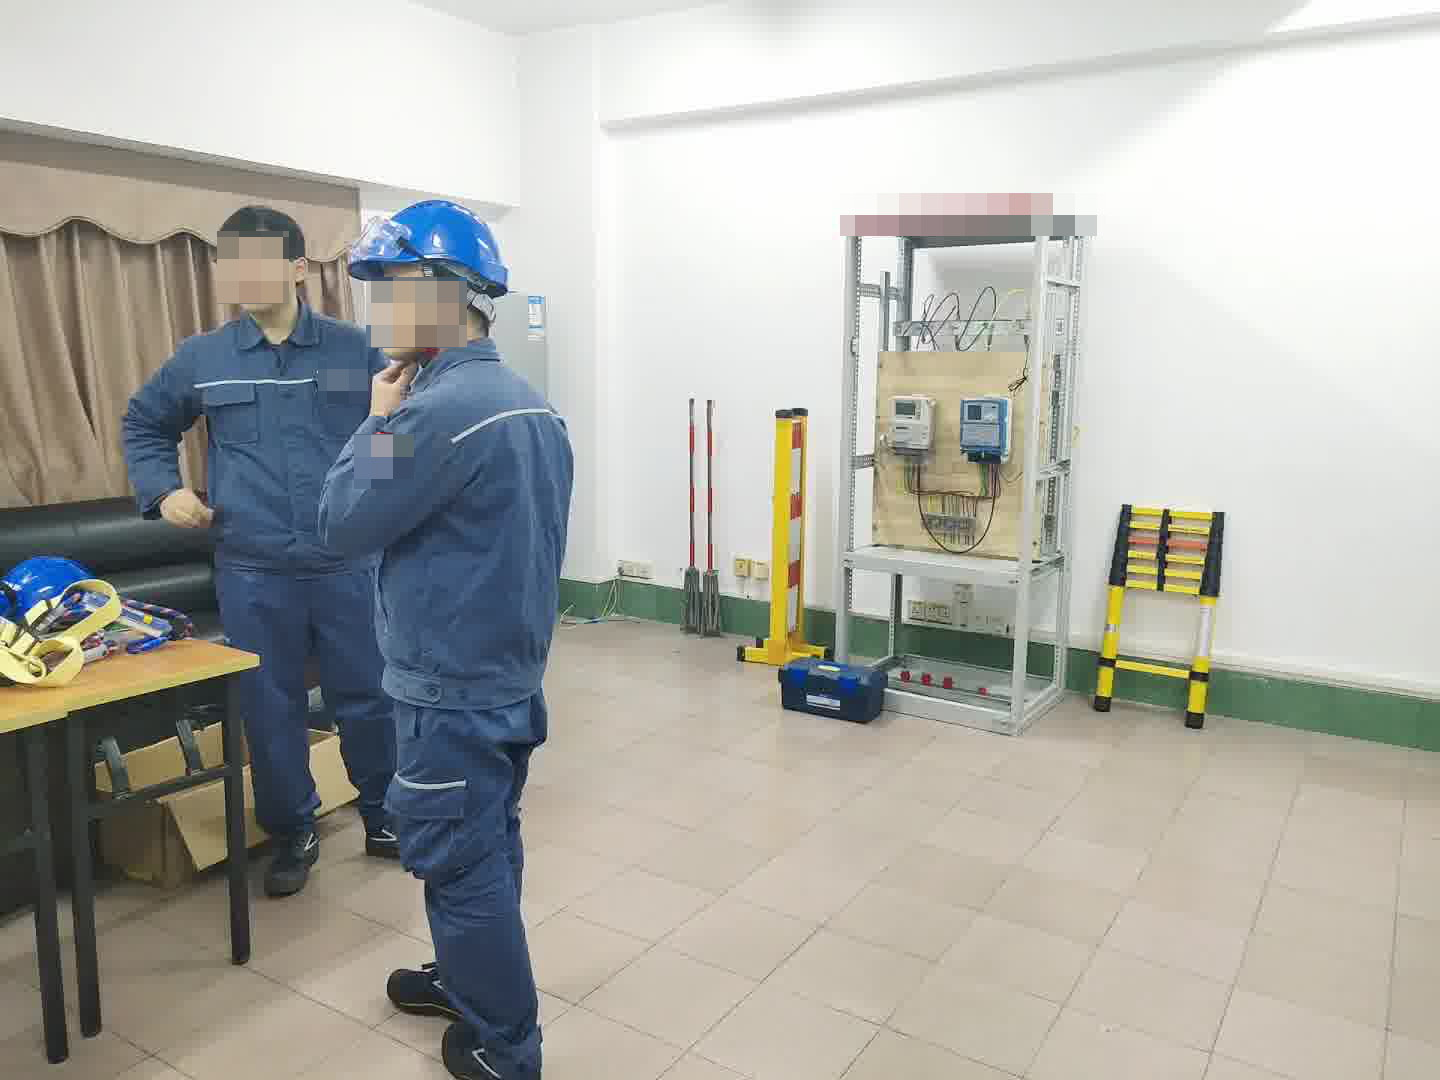downsuit: (364, 712, 554, 1079), (216, 571, 377, 863)
halt: (345, 195, 514, 363)
hand: (366, 359, 419, 418), (159, 482, 214, 529)
inear: (413, 263, 484, 357)
noear: (278, 246, 306, 302)
person: (312, 187, 587, 1080), (116, 198, 390, 905)
sleeve: (355, 428, 404, 488)
unhalt: (213, 205, 312, 319)
upsuit: (315, 335, 575, 703), (118, 308, 388, 572)
